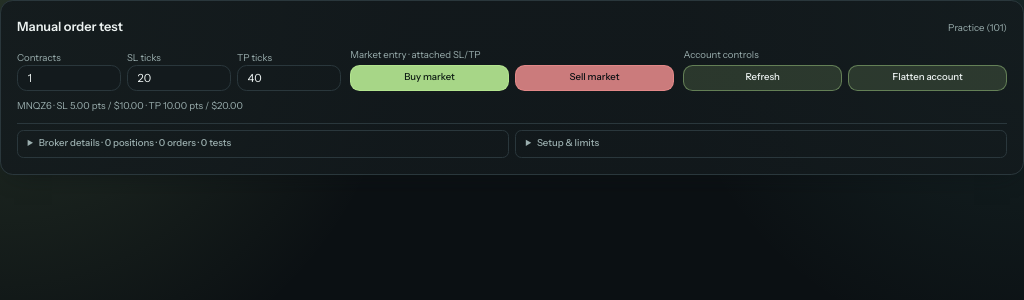
manual broker test panel › sends exactly one confirmed Sell entry with the selected brackets
This screenshot has width=1024, height=300.
expect the button with aria-label "Buy market + SL/TP" is enabled: met, box [350,65,509,91]
Replace the text in the number field named "Test contracts" with "2" at (69, 78), box [17,65,121,91]
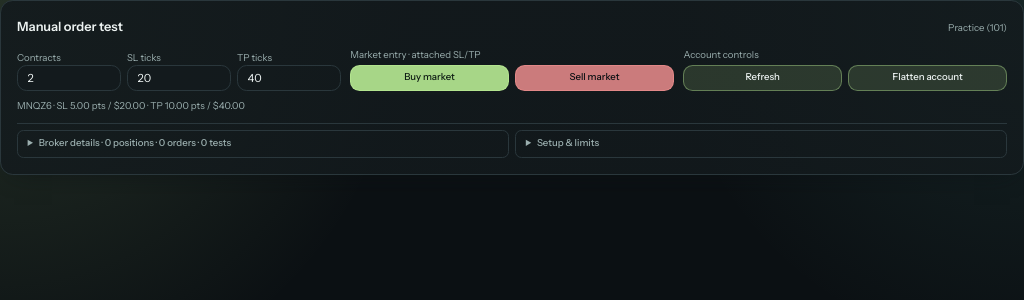
Replace the text in the number field named "Test stop loss ticks" with "12" at (179, 78), box [127,65,231,91]
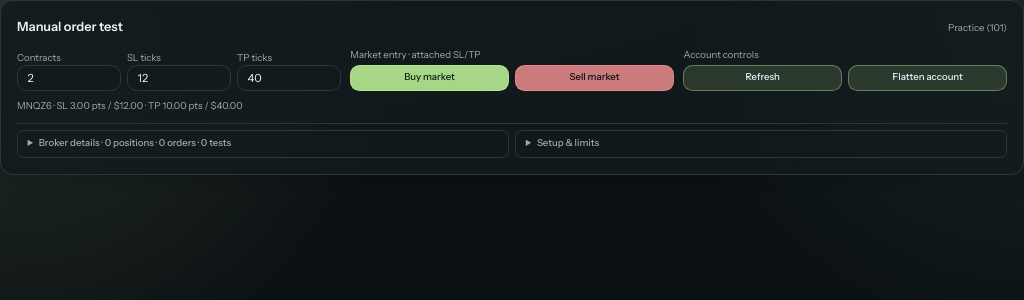
Replace the text in the number field named "Test take profit ticks" with "24" at (289, 78), box [237,65,341,91]
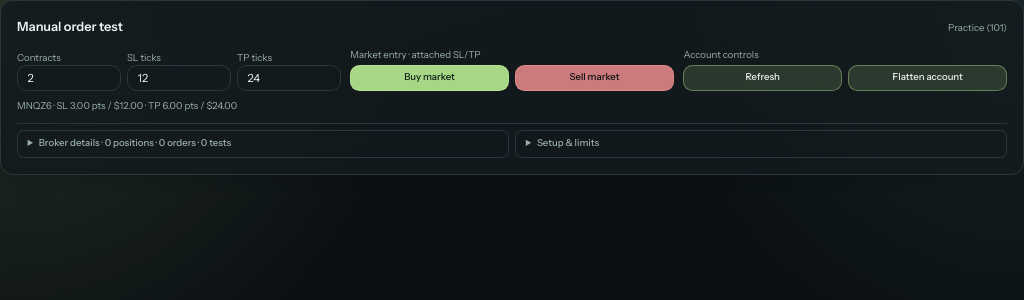
Click the button with aria-label "Sell market + SL/TP" at (594, 78), box [515,65,674,91]
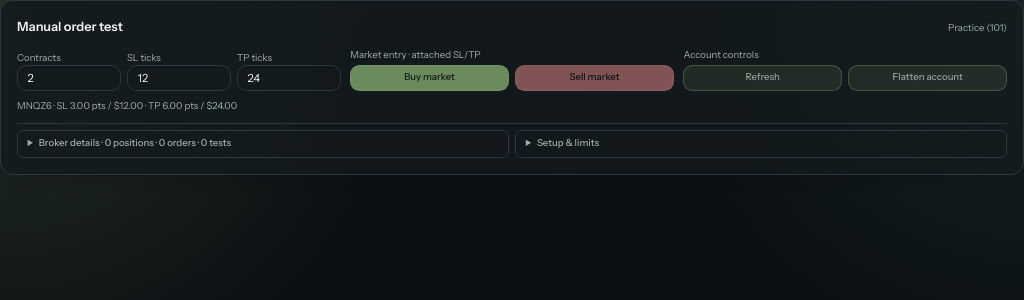
Click the button with aria-label "Sell market + SL/TP" at (594, 78), box [515,65,674,91]
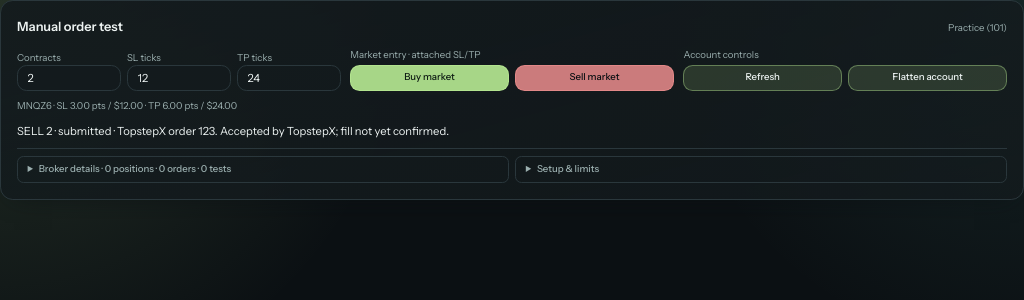
expect the text "TopstepX order 123" is shown: met, box [111,124,215,138]
